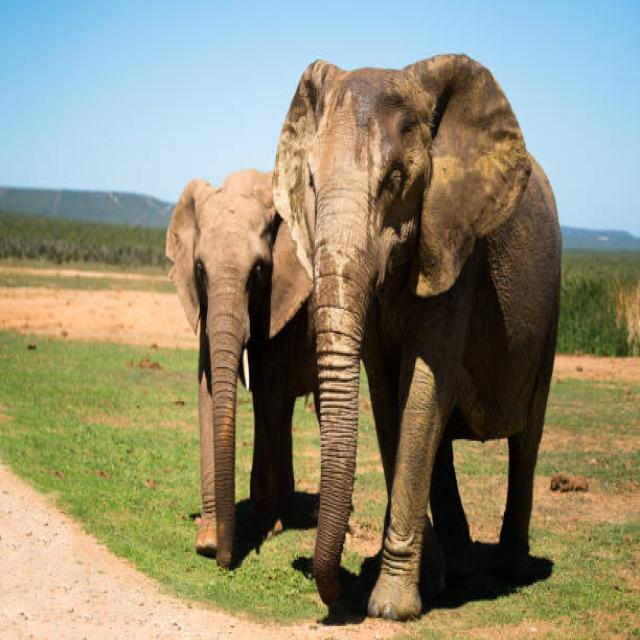Elephant: (262, 31, 578, 632), (160, 160, 321, 592)
